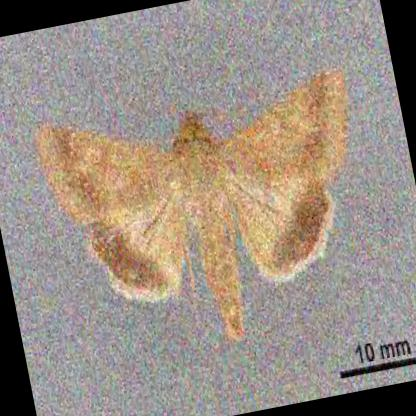helicoverpa: (32, 71, 348, 340)
